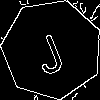J: (27, 24, 68, 77)
